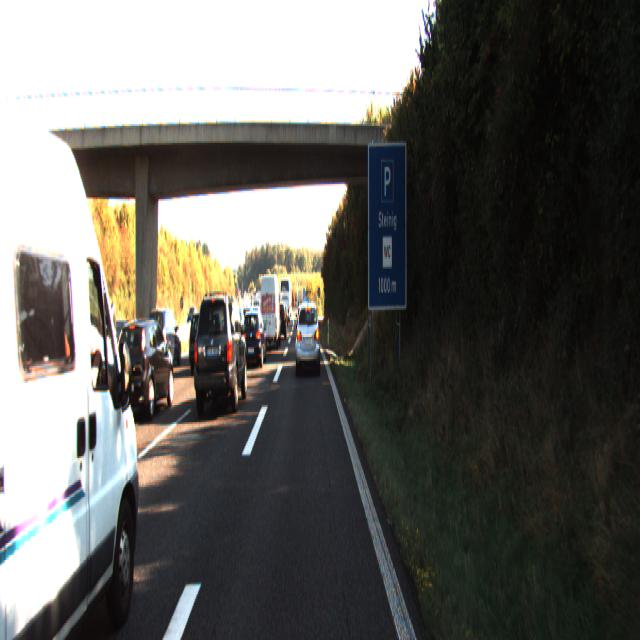Car: (0, 66, 152, 638), (0, 218, 115, 534), (193, 289, 248, 417), (114, 315, 175, 422), (146, 309, 183, 372), (190, 308, 225, 373), (295, 300, 321, 374), (258, 273, 280, 350), (240, 308, 267, 368), (273, 302, 287, 340)
